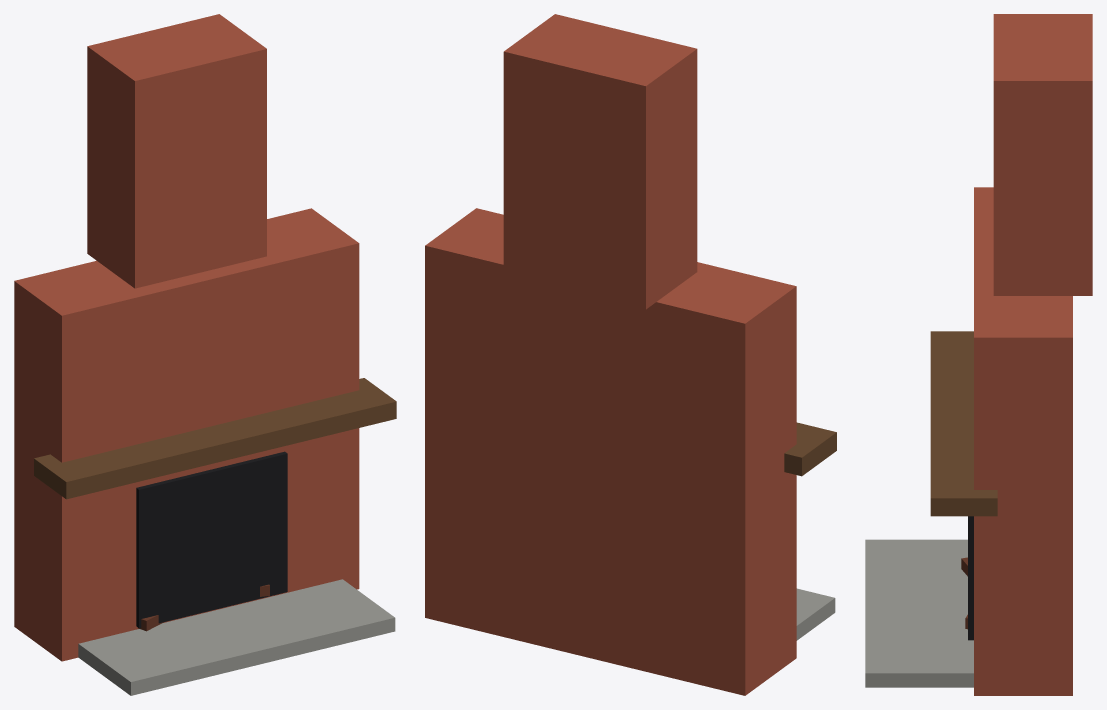
File: GH_Fireplace_01.glb
3 views of the same model, side by side, from view 1: azimuth 30°, elevation 25°; view 2: azimuth 150°, elevation 25°; view 3: azimuth 270°, elevation 25° (orthographic). The views are drawn at different scales.
Visible parts, largest first — view 1: GH_Fireplace_01; view 2: GH_Fireplace_01; view 3: GH_Fireplace_01.
Boxes of the visible parts, box(x1,y1,x2,y2) form: GH_Fireplace_01: box(14, 14, 396, 695); GH_Fireplace_01: box(425, 14, 836, 695); GH_Fireplace_01: box(865, 14, 1092, 695).
Bounding box in the file's own units: 2 × 3.2 × 1.15.
1 material, 1 textured.
